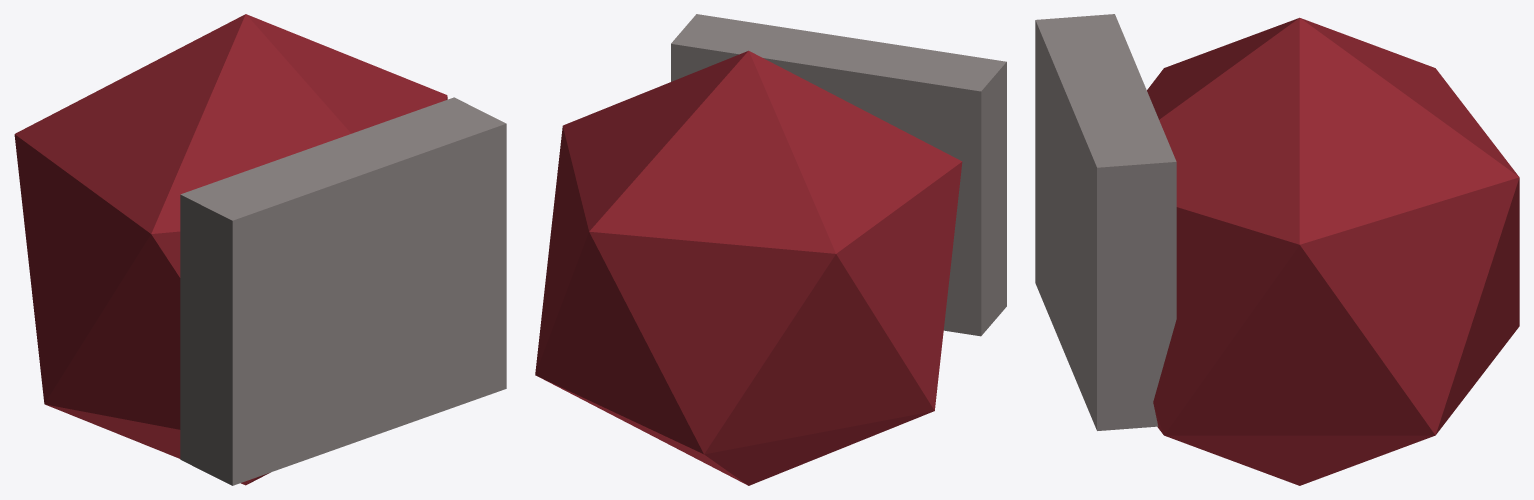
File: inf_gore_chunk_a.fbx
3 views of the same model, side by side, from view 1: azimuth 30°, elevation 25°; view 2: azimuth 150°, elevation 25°; view 3: azimuth 270°, elevation 25° (orthographic). The views are drawn at different scales.
Visible parts, largest first — view 1: inf_gore_chunk_a; view 2: inf_gore_chunk_a; view 3: inf_gore_chunk_a.
Part boxes in pixels (box(x1,y1,x2,y2)): inf_gore_chunk_a: box(14, 14, 506, 485); inf_gore_chunk_a: box(535, 14, 1006, 485); inf_gore_chunk_a: box(1035, 14, 1519, 485).
Size of the model in its own units: 28.62 by 32 by 29.98.
